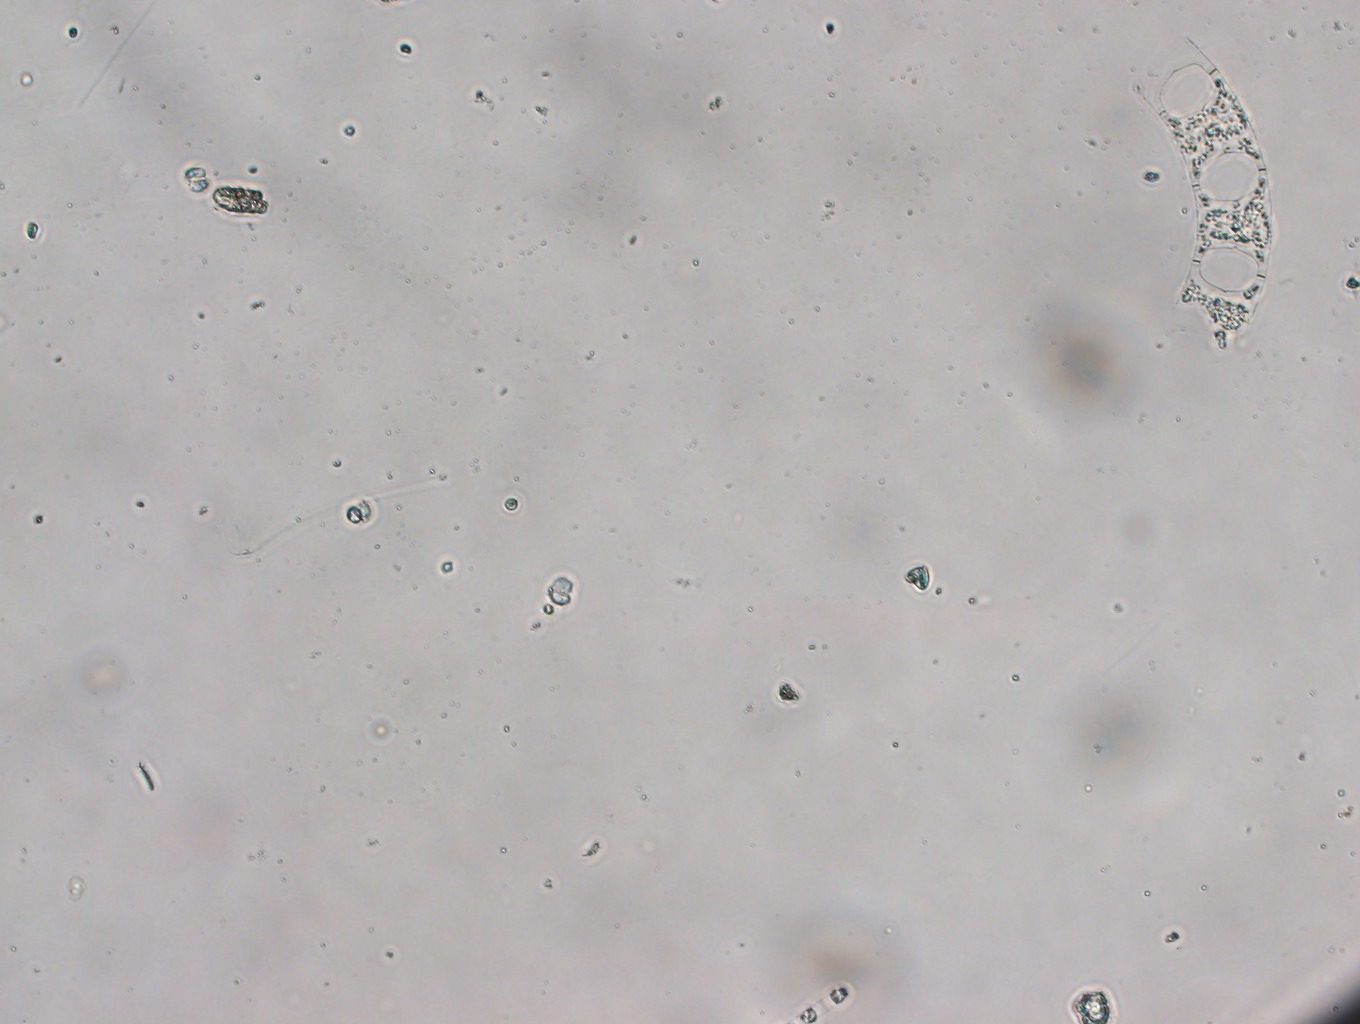eucampia: (1128, 35, 1275, 347)
